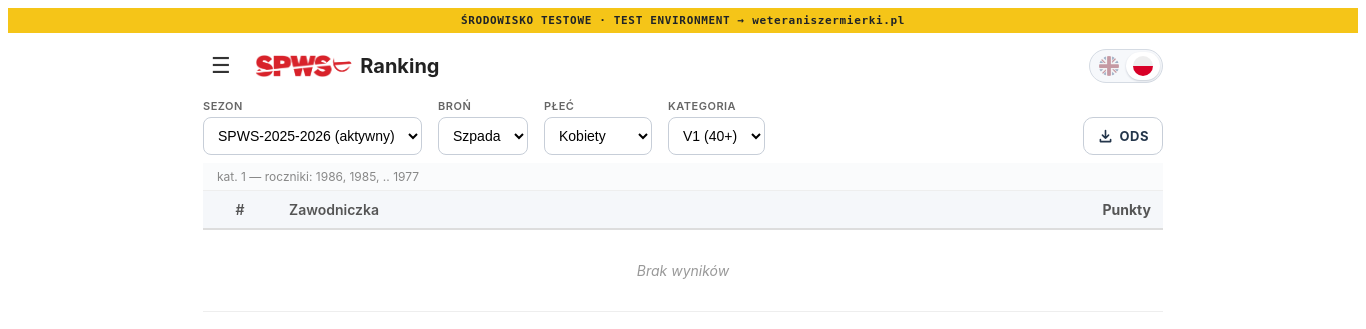
it: Birth Year Subtitle (BY.1–BY.7) › shows correct birth years for V0 with season ending 2026
This screenshot has width=1366, height=329.
// Change category to V0
Select "V0 (30+)" in the dropdown labelled "Kategoria" at (716, 136), box top-left (668, 117), bottom-right (765, 155)
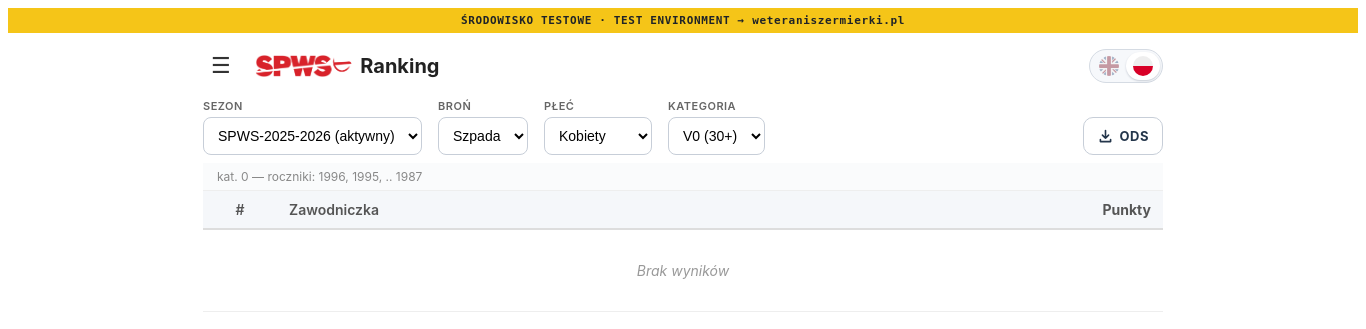
Now the text with class "category-subtitle" shows "1996, 1995, .. 1987", box top-left (217, 169), bottom-right (422, 184)
